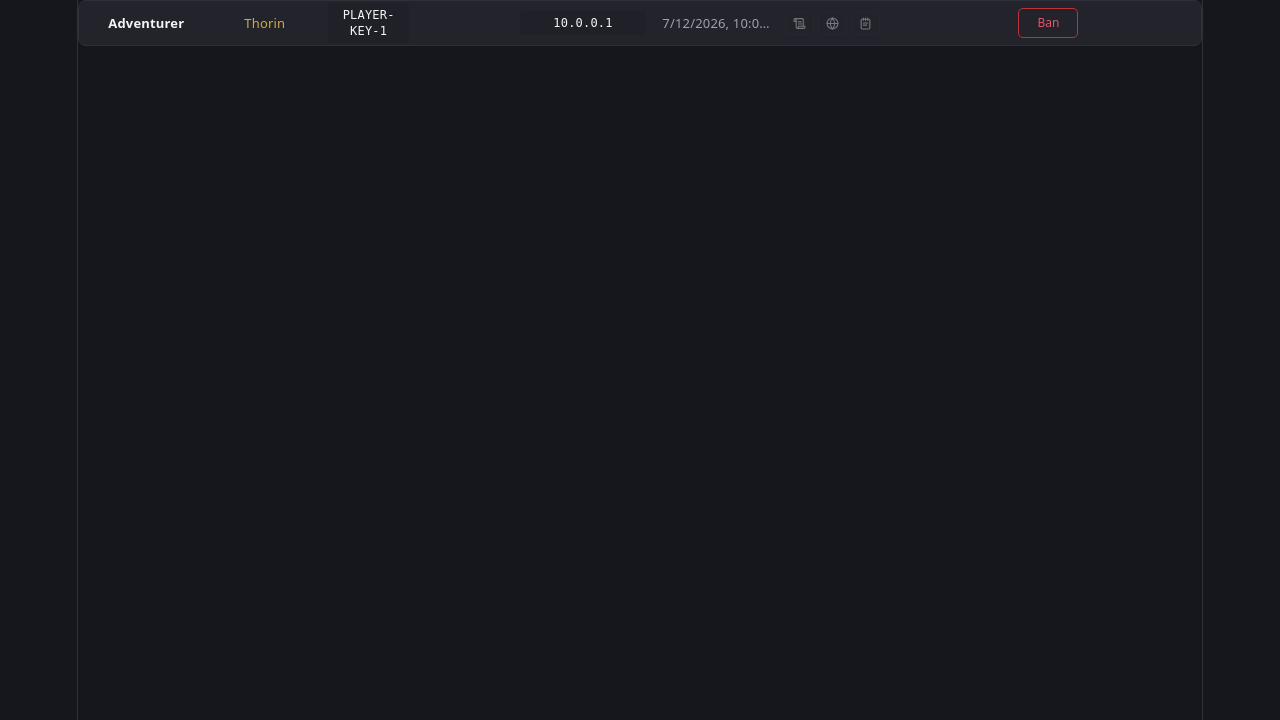
Test: PlayerListItem › shows the ban confirm dialog when Ban is clicked
Click the button "Ban" at (1048, 23), box [1018,8,1078,38]
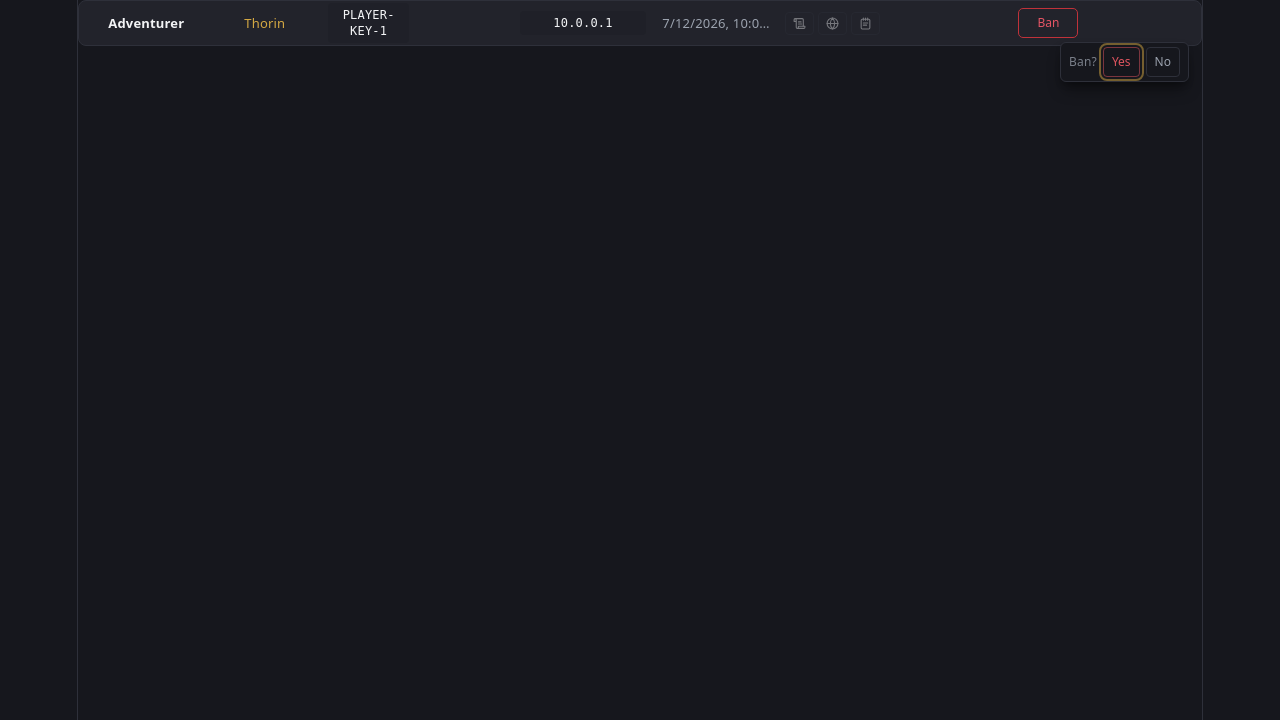
expect the text "Ban?" is shown: met, box [1069,49,1097,75]
expect the button with aria-label "confirm ban" is shown: met, box [1103,47,1140,77]
